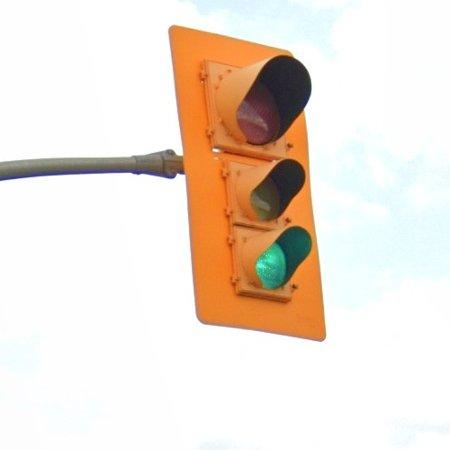traffic lights: (167, 22, 328, 344)
